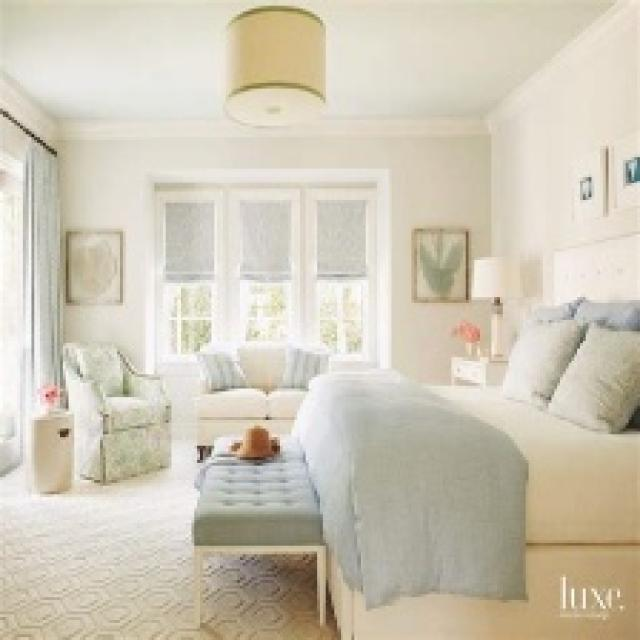couch: (63, 338, 184, 477), (194, 332, 326, 449)
lamp: (470, 250, 520, 369)
